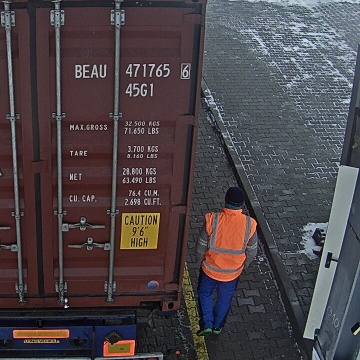serial_id: (74, 63, 188, 78)
